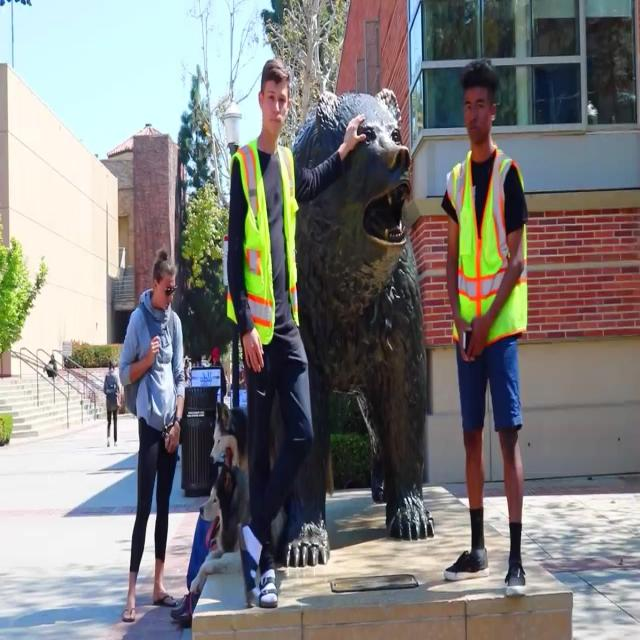Reflective-Jacket: (441, 145, 531, 357), (223, 135, 307, 362)
